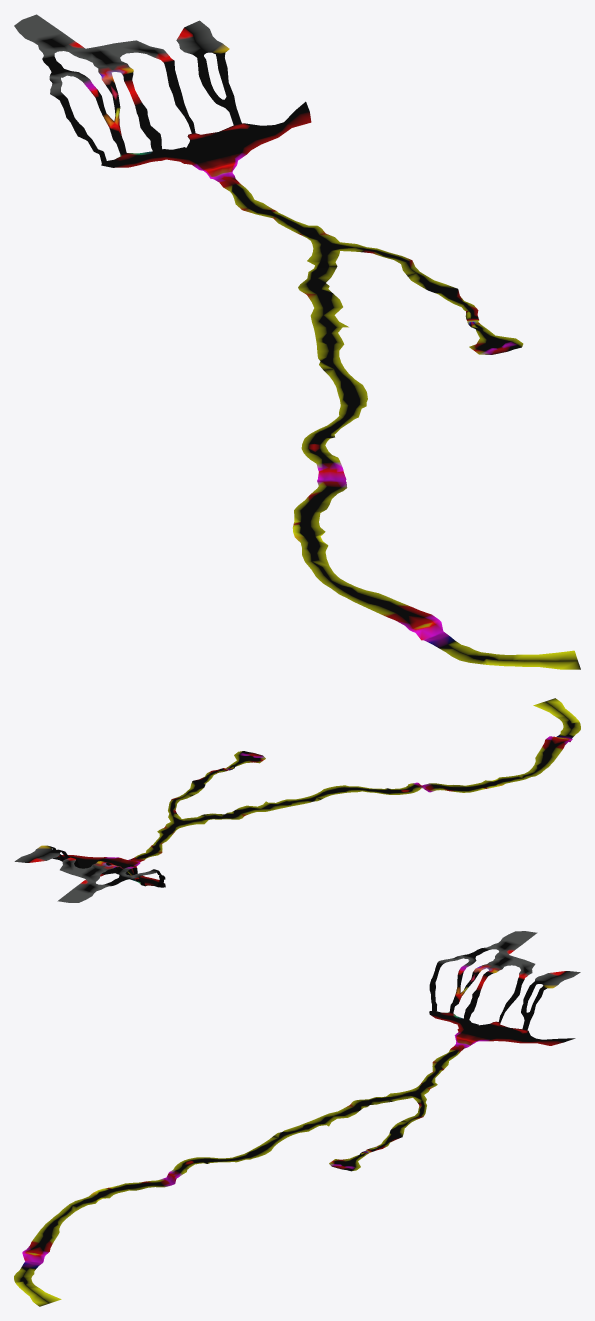
The picture shows the model from 3 angles, top to bottom: view 1: azimuth 30°, elevation 25°; view 2: azimuth 150°, elevation 25°; view 3: azimuth 330°, elevation 25°; orthographic projection. The views are drawn at different scales.
Parts seen in each view (by area): view 1: G:\FFXIV-MapTools\exports\d2f1\bg\ex1\02_dra_d2\fld\d2f1\bgp; view 2: G:\FFXIV-MapTools\exports\d2f1\bg\ex1\02_dra_d2\fld\d2f1\bgp; view 3: G:\FFXIV-MapTools\exports\d2f1\bg\ex1\02_dra_d2\fld\d2f1\bgp.
Part boxes in pixels (bbox=[...]): G:\FFXIV-MapTools\exports\d2f1\bg\ex1\02_dra_d2\fld\d2f1\bgp: bbox=[14, 14, 580, 669]; G:\FFXIV-MapTools\exports\d2f1\bg\ex1\02_dra_d2\fld\d2f1\bgp: bbox=[14, 698, 580, 902]; G:\FFXIV-MapTools\exports\d2f1\bg\ex1\02_dra_d2\fld\d2f1\bgp: bbox=[14, 931, 580, 1306].
Bounding box in the file's own units: 647 × 208 × 1842.
